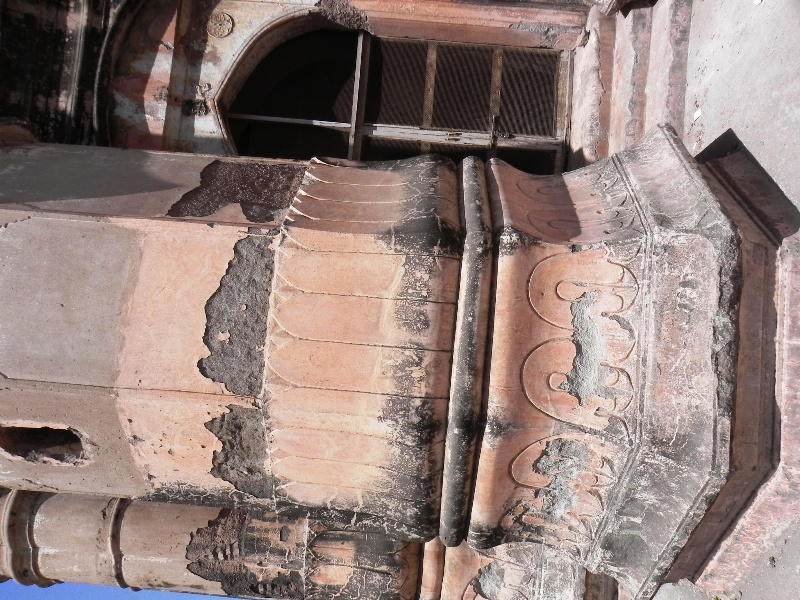Spalling: (189, 228, 286, 501), (175, 507, 306, 594), (152, 162, 314, 219), (563, 287, 604, 408), (316, 1, 380, 39), (504, 15, 566, 43)
